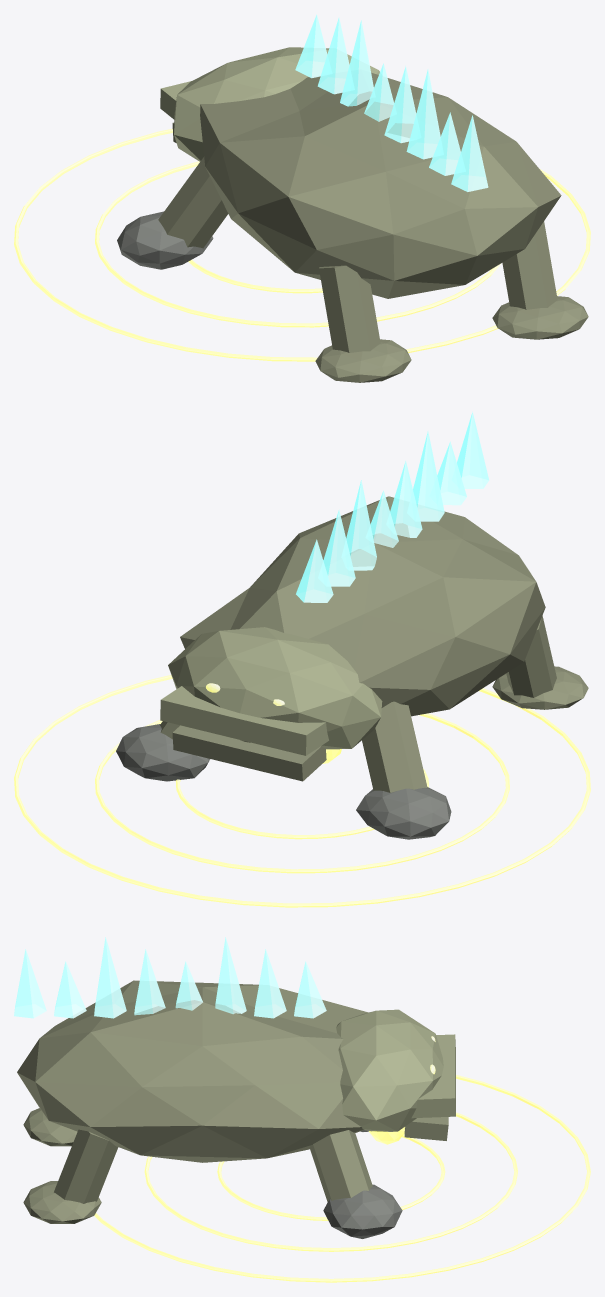
Rendered from boss_03_resonant_behemoth.glb.
3 views of the same model, one above another, from view 1: azimuth 30°, elevation 25°; view 2: azimuth 150°, elevation 25°; view 3: azimuth 270°, elevation 25° (orthographic). The views are drawn at different scales.
Visible parts, largest first — view 1: resonant_behemoth_subterranean_body, resonant_behemoth_broad_head, resonant_behemoth_rear_leg_-1, resonant_behemoth_echo_shockwave_ring_2, resonant_behemoth_massive_forelimb_-1, resonant_behemoth_rear_leg_1, resonant_behemoth_mallet_fist_-1, resonant_behemoth_rear_mud_foot_-1, resonant_behemoth_rear_mud_foot_1, resonant_behemoth_echo_shockwave_ring_1, resonant_behemoth_vibrating_spine_crystal_5, resonant_behemoth_vibrating_spine_crystal_2 (+8 smaller); view 2: resonant_behemoth_subterranean_body, resonant_behemoth_broad_head, resonant_behemoth_wide_mouth_upper, resonant_behemoth_echo_shockwave_ring_2, resonant_behemoth_massive_forelimb_-1, resonant_behemoth_wide_mouth_lower, resonant_behemoth_mallet_fist_-1, resonant_behemoth_mallet_fist_1, resonant_behemoth_echo_shockwave_ring_1, resonant_behemoth_rear_leg_-1, resonant_behemoth_rear_mud_foot_-1, resonant_behemoth_vibrating_spine_crystal_5 (+8 smaller); view 3: resonant_behemoth_subterranean_body, resonant_behemoth_broad_head, resonant_behemoth_echo_shockwave_ring_2, resonant_behemoth_massive_forelimb_1, resonant_behemoth_rear_leg_1, resonant_behemoth_mallet_fist_1, resonant_behemoth_echo_shockwave_ring_1, resonant_behemoth_wide_mouth_upper, resonant_behemoth_rear_mud_foot_1, resonant_behemoth_vibrating_spine_crystal_5, resonant_behemoth_vibrating_spine_crystal_2, resonant_behemoth_vibrating_spine_crystal_1 (+8 smaller).
Boxes of the visible parts, left/top/right/bottom form: resonant_behemoth_subterranean_body: left=200, top=72, right=561, bottom=298; resonant_behemoth_broad_head: left=174, top=47, right=379, bottom=161; resonant_behemoth_rear_leg_-1: left=319, top=265, right=380, bottom=352; resonant_behemoth_echo_shockwave_ring_2: left=14, top=128, right=590, bottom=361; resonant_behemoth_massive_forelimb_-1: left=158, top=156, right=228, bottom=248; resonant_behemoth_rear_leg_1: left=502, top=221, right=557, bottom=309; resonant_behemoth_mallet_fist_-1: left=117, top=211, right=213, bottom=269; resonant_behemoth_rear_mud_foot_-1: left=315, top=339, right=411, bottom=382; resonant_behemoth_rear_mud_foot_1: left=492, top=296, right=588, bottom=339; resonant_behemoth_echo_shockwave_ring_1: left=95, top=161, right=500, bottom=327; resonant_behemoth_vibrating_spine_crystal_5: left=406, top=69, right=440, bottom=159; resonant_behemoth_vibrating_spine_crystal_2: left=340, top=20, right=373, bottom=106; resonant_behemoth_subterranean_body: left=180, top=496, right=545, bottom=716; resonant_behemoth_broad_head: left=168, top=627, right=382, bottom=749; resonant_behemoth_wide_mouth_upper: left=160, top=686, right=328, bottom=755; resonant_behemoth_echo_shockwave_ring_2: left=14, top=675, right=590, bottom=907; resonant_behemoth_massive_forelimb_-1: left=362, top=701, right=427, bottom=792; resonant_behemoth_wide_mouth_lower: left=172, top=725, right=326, bottom=781; resonant_behemoth_mallet_fist_-1: left=356, top=787, right=451, bottom=839; resonant_behemoth_mallet_fist_1: left=116, top=724, right=210, bottom=781; resonant_behemoth_echo_shockwave_ring_1: left=95, top=713, right=509, bottom=873; resonant_behemoth_rear_leg_-1: left=506, top=615, right=556, bottom=697; resonant_behemoth_rear_mud_foot_-1: left=492, top=666, right=588, bottom=709; resonant_behemoth_vibrating_spine_crystal_5: left=413, top=431, right=444, bottom=521; resonant_behemoth_subterranean_body: left=17, top=980, right=368, bottom=1162; resonant_behemoth_broad_head: left=336, top=1009, right=443, bottom=1131; resonant_behemoth_echo_shockwave_ring_2: left=94, top=1075, right=590, bottom=1282; resonant_behemoth_massive_forelimb_1: left=309, top=1130, right=372, bottom=1201; resonant_behemoth_rear_leg_1: left=54, top=1129, right=118, bottom=1203; resonant_behemoth_mallet_fist_1: left=323, top=1184, right=402, bottom=1238; resonant_behemoth_echo_shockwave_ring_1: left=144, top=1112, right=517, bottom=1251; resonant_behemoth_wide_mouth_upper: left=411, top=1034, right=455, bottom=1118; resonant_behemoth_rear_mud_foot_1: left=23, top=1181, right=101, bottom=1223; resonant_behemoth_vibrating_spine_crystal_5: left=94, top=937, right=126, bottom=1018; resonant_behemoth_vibrating_spine_crystal_2: left=215, top=937, right=246, bottom=1014; resonant_behemoth_vibrating_spine_crystal_1: left=254, top=949, right=286, bottom=1018.
Size of the model in its own units: 4.64 by 2.38 by 5.15.
